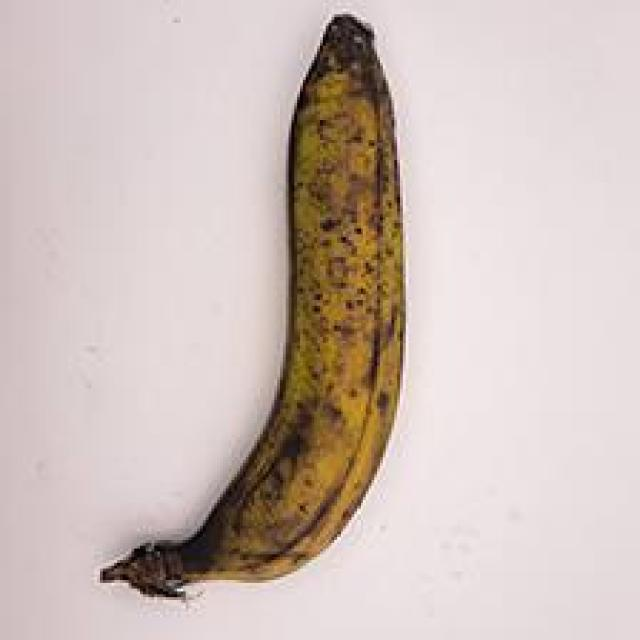Overripe: (80, 2, 441, 620)
